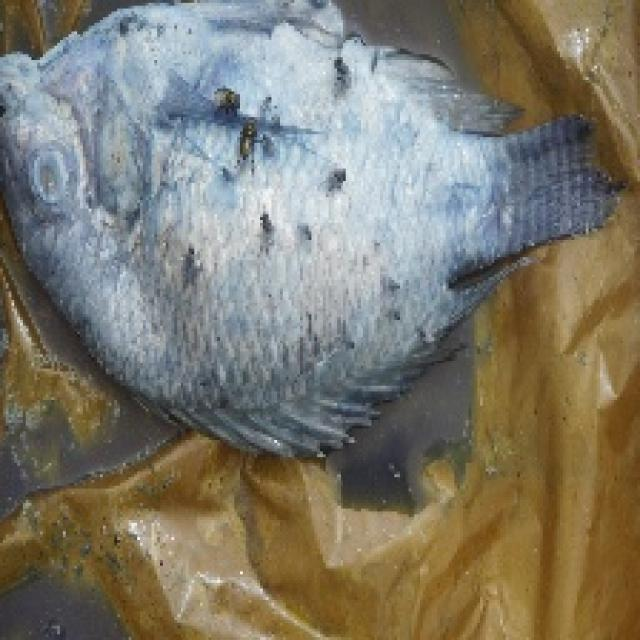Non-Fresh: (7, 10, 527, 431), (26, 134, 86, 212)
